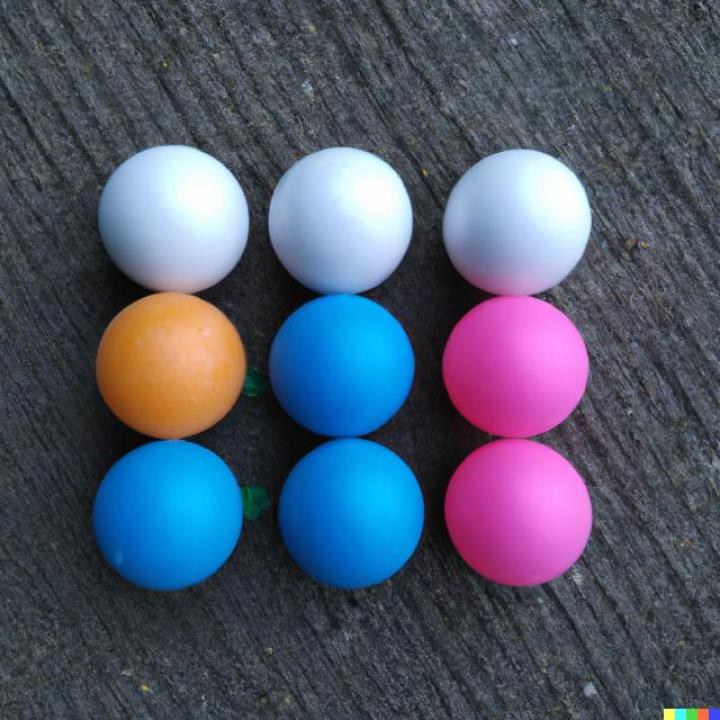orange: (98, 293, 246, 441)
white: (99, 145, 249, 295), (266, 144, 414, 296), (442, 151, 592, 295)
